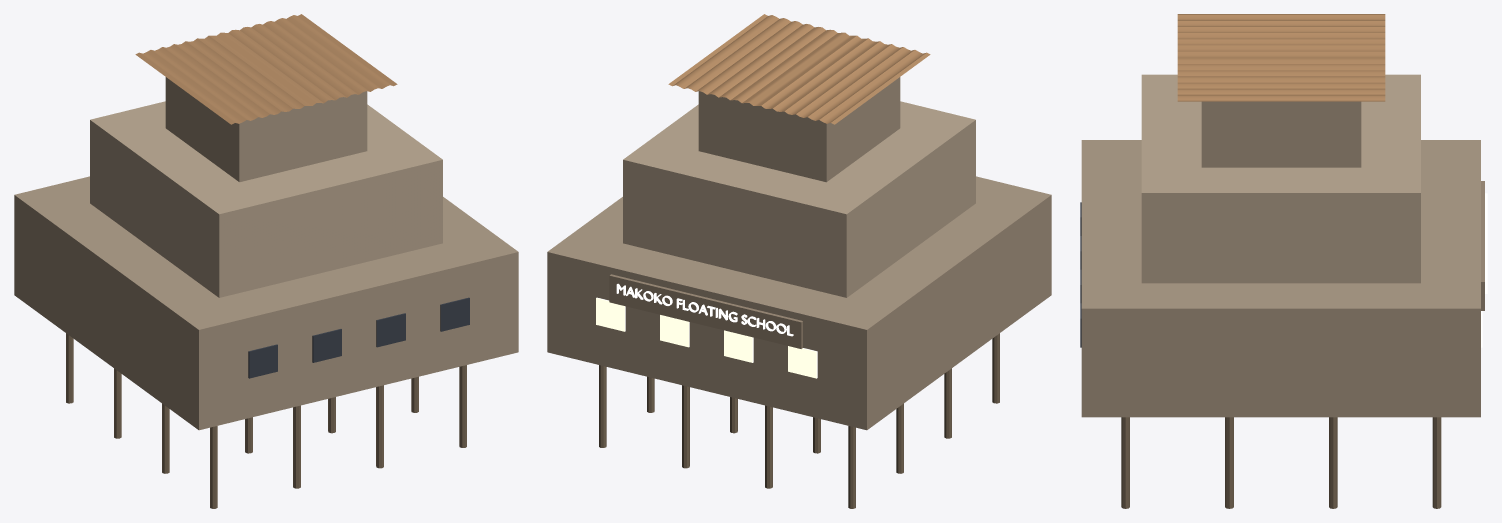
File: floating_school.glb
The picture shows the model from 3 angles, left to right: view 1: azimuth 30°, elevation 25°; view 2: azimuth 150°, elevation 25°; view 3: azimuth 270°, elevation 25°; orthographic projection. The views are drawn at different scales.
Visible parts, largest first — view 1: MK_floating_school; view 2: MK_floating_school; view 3: MK_floating_school.
Part boxes in pixels (x1,y1,x2,y2): MK_floating_school: (14, 14, 518, 508); MK_floating_school: (547, 14, 1051, 508); MK_floating_school: (1080, 14, 1487, 508).
Size of the model in its own units: 10 by 10.63 by 10.21.
